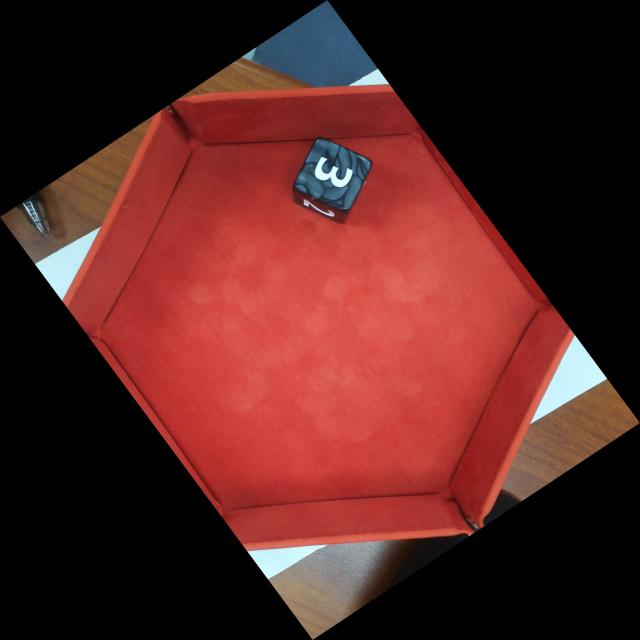dice: (296, 134, 371, 211)
